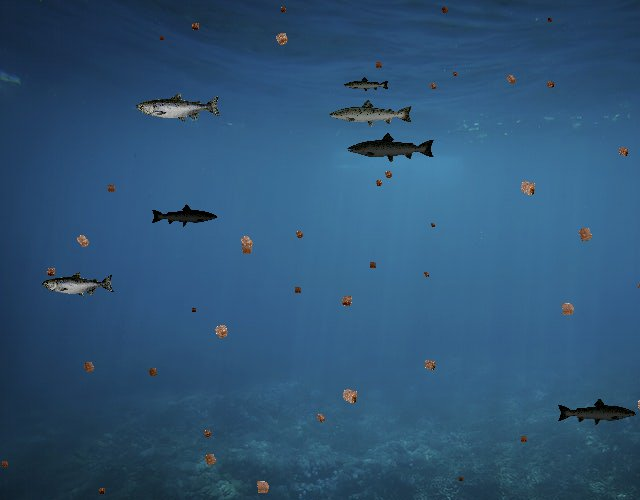Fish: (347, 131, 437, 164), (328, 98, 414, 129), (136, 92, 222, 123), (557, 397, 638, 426), (43, 271, 116, 298), (150, 204, 218, 228), (343, 76, 390, 93)
Pellet: (249, 474, 276, 500), (501, 69, 521, 89), (187, 18, 204, 35), (366, 258, 380, 272), (450, 68, 460, 78)
